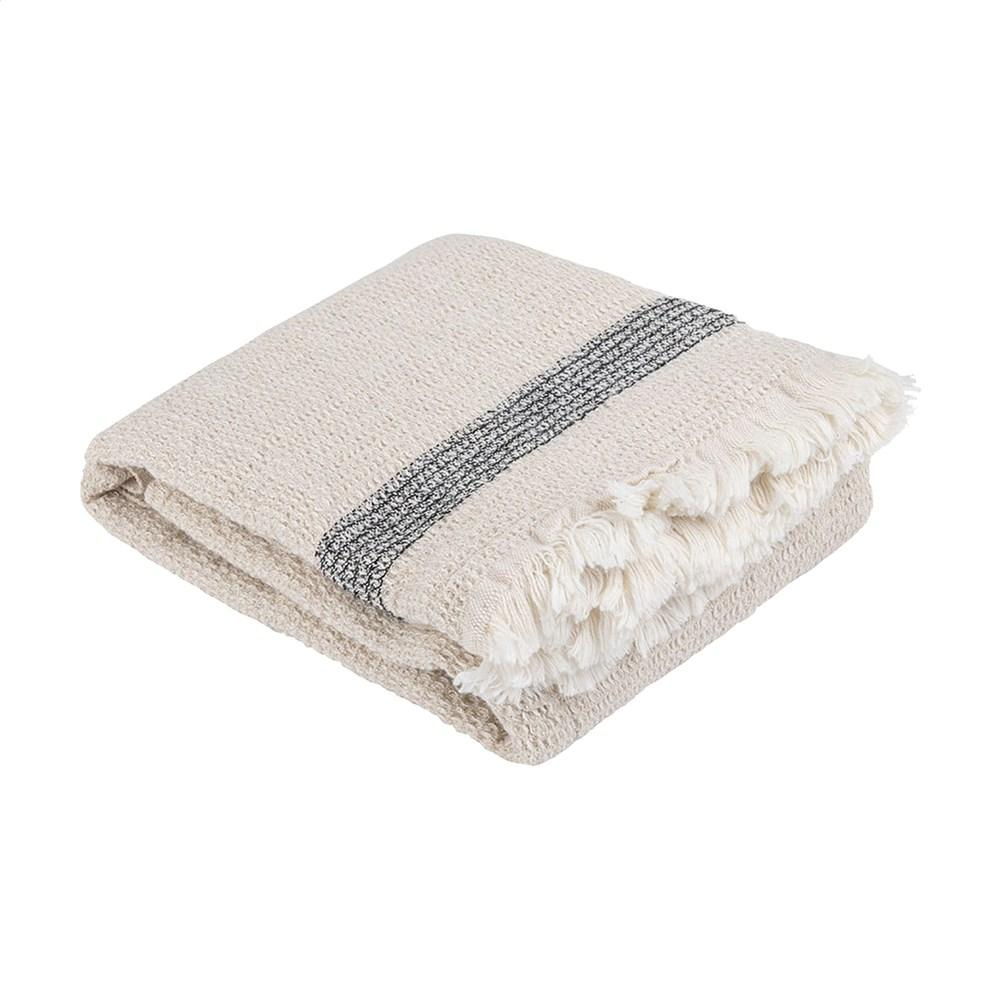Towel: (57, 145, 938, 818)
